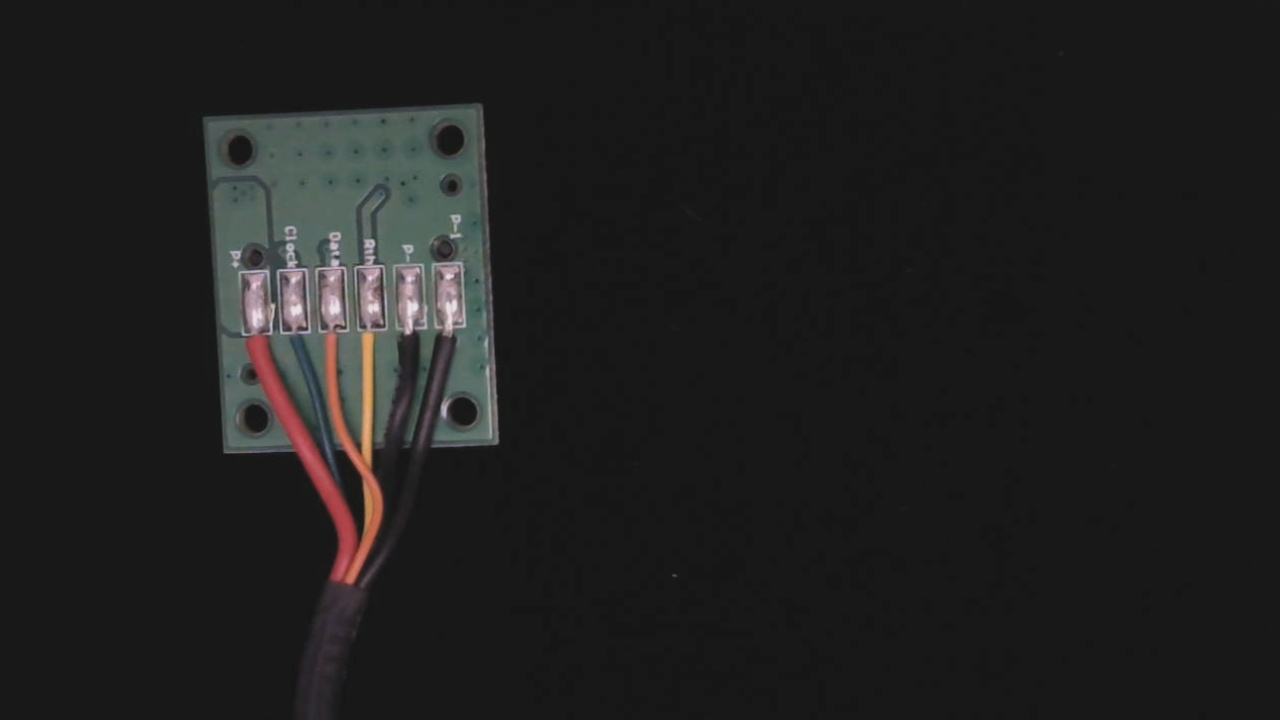Black: (401, 300, 438, 375)
Black1: (442, 301, 478, 370)
Green: (281, 307, 318, 379)
Orange: (322, 303, 356, 377)
Red: (241, 309, 278, 381)
Yellow: (357, 303, 394, 379)
